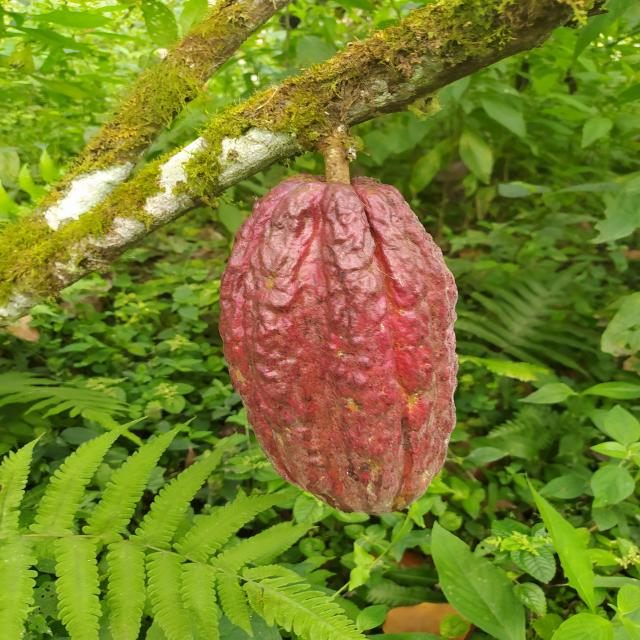Sana: (217, 175, 460, 518)
